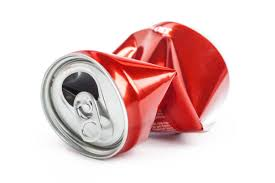can: (32, 18, 234, 162)
